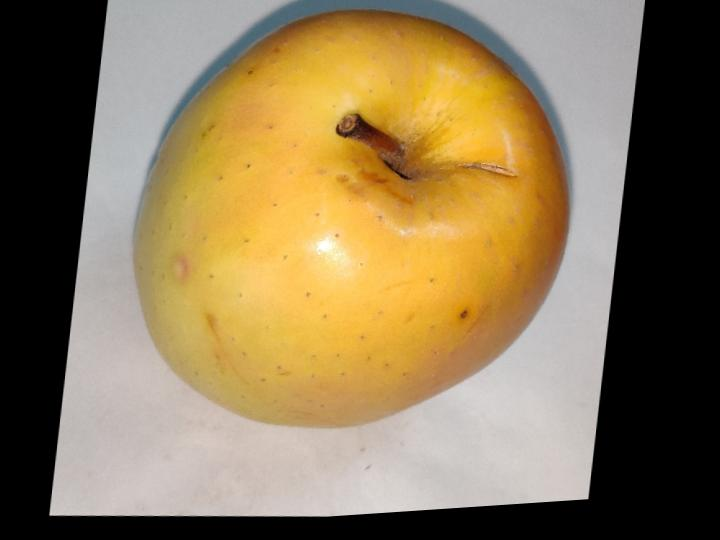apple: (134, 8, 568, 426)
surface_damage: (455, 162, 516, 175)
